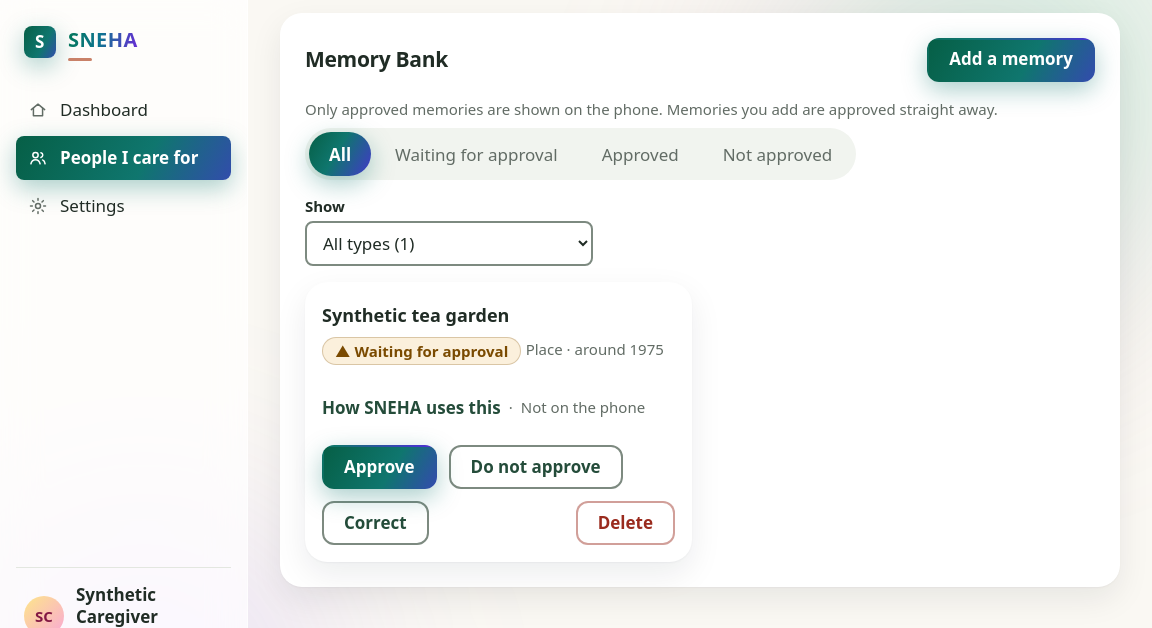
Scenario: Memory Bank approval › explains a version conflict instead of overwriting someone else’s change
(page scrolled)
Click the button "Approve": (379, 467) [322,445,436,489]
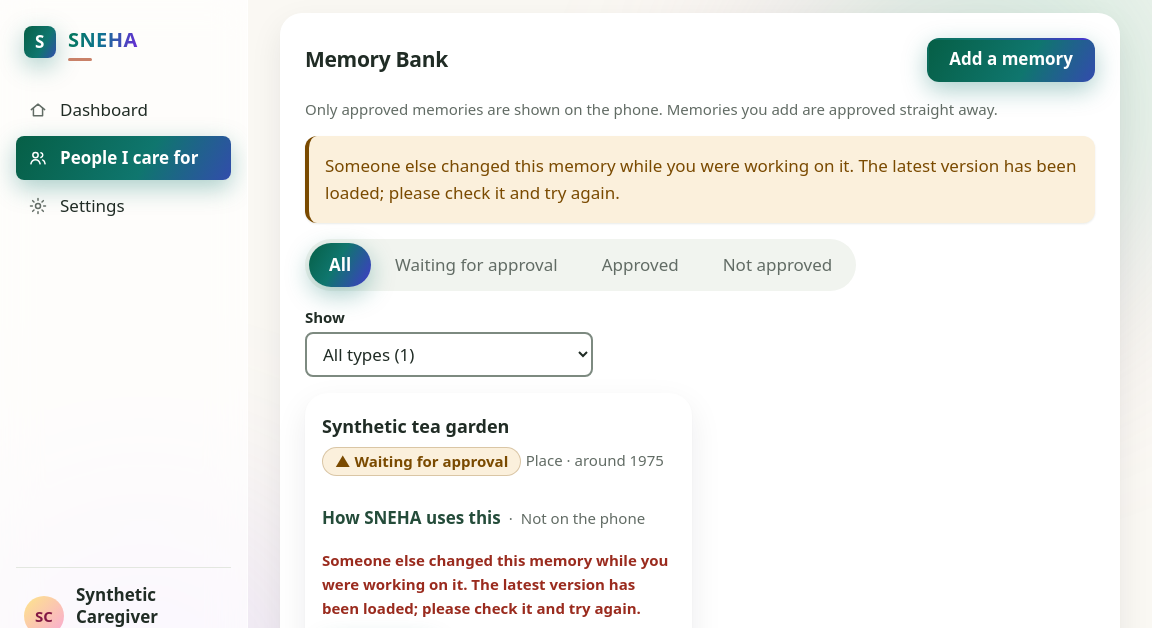
Expected: the text "Someone else changed this memory" is shown, [325,154,1076,204]
